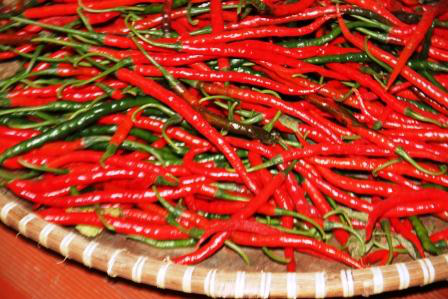Cabai: (114, 34, 350, 217)
